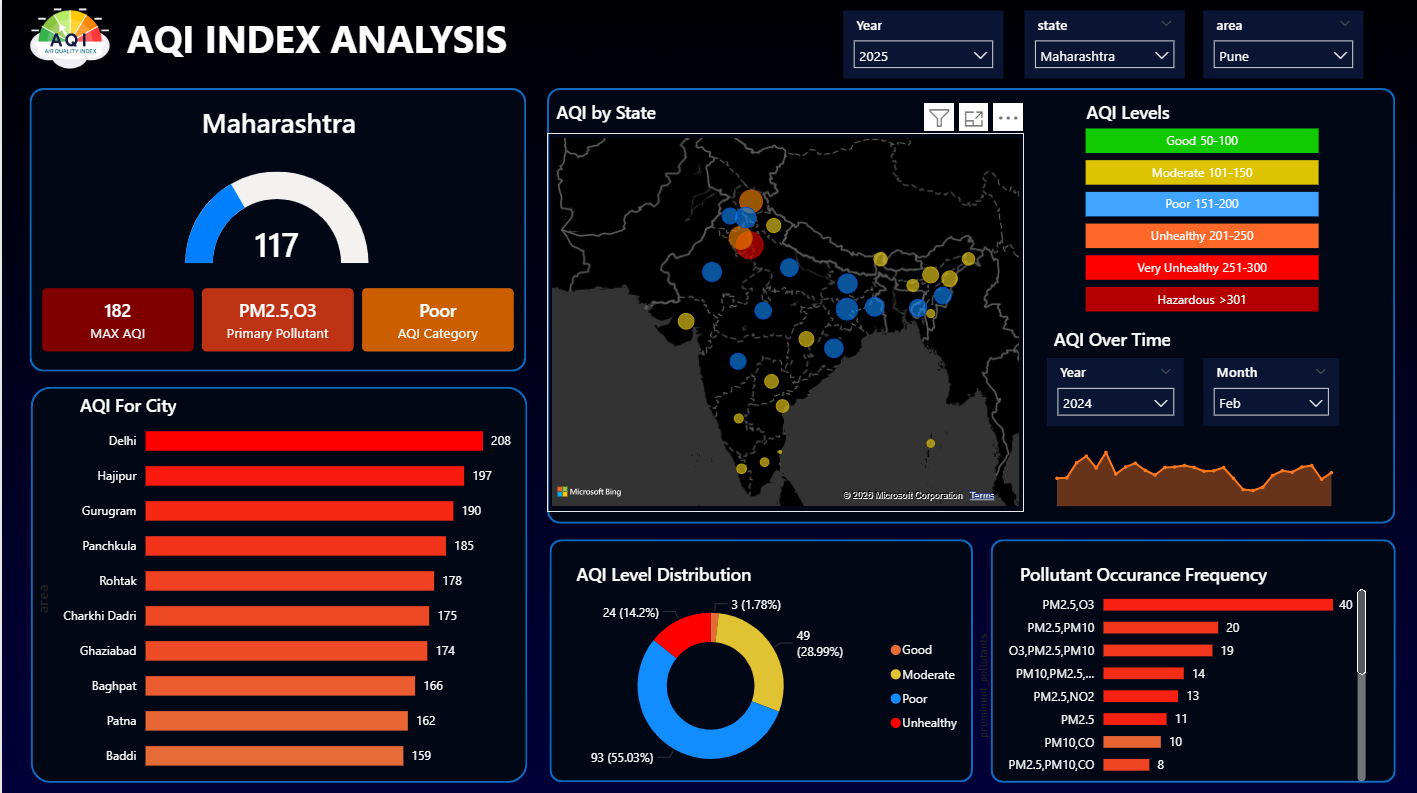

The page's visual inventory and layout, read from the dashboard file:
{"tool":"powerbi","page":{"name":"AQI INDEX ANALYSIS","canvas":[1400,800],"ordinal":0},"visuals":[{"type":"shape","box":[26.8,88.5,490.6,280.2],"z":0},{"type":"textbox","box":[118.8,10.1,391.3,62.3],"z":1000},{"type":"gauge","fields":{"Y":["day_wise_aqi_data.AVG Aqi"]},"box":[122,166.2,298.9,100.5],"z":2000},{"type":"slicer","fields":{"Values":["Calender Table.Year"]},"box":[831.1,12.1,158.2,67],"z":3000},{"type":"slicer","fields":{"Values":["day_wise_aqi_data.state"]},"box":[1009.4,12.1,158.2,67],"z":4000},{"type":"slicer","fields":{"Values":["day_wise_aqi_data.area"]},"box":[1186.3,12.1,158.2,67],"z":5000},{"type":"cardVisual","fields":{"Data":["Max(day_wise_aqi_data.aqi_value)","day_wise_aqi_data.Primary Pollutant","day_wise_aqi_data.AQI Category KPI"]},"box":[33.5,280.2,478.6,75.1],"z":6000},{"type":"cardVisual","fields":{"Data":["day_wise_aqi_data.KPI Title"]},"box":[28.2,88.5,490.6,64.3],"z":7000},{"type":"shape","box":[538.9,88.5,837.8,430.3],"z":8000},{"type":"map","fields":{"Category":["day_wise_aqi_data.state"],"Size":["day_wise_aqi_data.AVERAGE AQI"]},"box":[538.8,133.6,471.3,373.7],"z":9000},{"type":"cardVisual","fields":{"Data":["day_wise_aqi_data.State Map Title"]},"box":[518.8,79.1,490.6,64.3],"z":10000},{"type":"barChart","fields":{"Category":["day_wise_aqi_data.AQI Category"],"Y":["day_wise_aqi_data.Label"]},"box":[1065.6,115.6,240.1,199.6],"z":11000},{"type":"cardVisual","fields":{"Data":["day_wise_aqi_data.AQI Level Title"]},"box":[958.5,366,277.5,33.5],"z":12000},{"type":"areaChart","fields":{"Category":["Calender Table.Date.Variation.Date Hierarchy.Day"],"Y":["day_wise_aqi_data.AVERAGE AQI"]},"box":[1026.8,416.9,320.4,89.8],"z":13000},{"type":"slicer","fields":{"Values":["Calender Table.Date.Variation.Date Hierarchy.Year"]},"box":[1032.2,355.2,135.4,67],"z":14000},{"type":"slicer","fields":{"Values":["Calender Table.Month"]},"box":[1186.3,355.2,134,67],"z":15000},{"type":"cardVisual","fields":{"Data":["day_wise_aqi_data.AQI Level Title"]},"box":[1041.6,79.1,357.9,64.3],"z":16000},{"type":"cardVisual","fields":{"Data":["day_wise_aqi_data.TiTle For Monthly Chart"]},"box":[1009.4,304.3,390.1,64.3],"z":17000},{"type":"shape","box":[28.2,383.4,490.6,391.4],"z":18000},{"type":"barChart","fields":{"Category":["day_wise_aqi_data.area"],"Y":["day_wise_aqi_data.AVERAGE AQI"]},"box":[27,400.7,483.3,376.7],"z":19000},{"type":"cardVisual","fields":{"Data":["day_wise_aqi_data.Title for city"]},"box":[48,369.2,490.8,64.5],"z":20000},{"type":"shape","box":[540.2,534.9,418.2,239.9],"z":21000},{"type":"donutChart","fields":{"Category":["day_wise_aqi_data.AQI Category"],"Y":["day_wise_aqi_data.Count of Rows"]},"box":[518.8,579.7,439.1,198.6],"z":22000},{"type":"cardVisual","fields":{"Data":["day_wise_aqi_data.Donut Title"]},"box":[537.7,534.8,313,65.2],"z":23000},{"type":"shape","box":[976.8,534.8,400,240.6],"z":24000},{"type":"barChart","fields":{"Y":["day_wise_aqi_data.Count of Rows"],"Category":["day_wise_aqi_data.prominent_pollutants"]},"box":[959.4,571,392.8,207.2],"z":25000},{"type":"cardVisual","fields":{"Data":["day_wise_aqi_data.Pollutant title"]},"box":[976.8,534.8,313,65.2],"z":25001},{"type":"image","box":[26.1,0,82.6,79.7],"z":25002}]}

Visuals, with their boxes in screenshot pixels (x1, y1, x2, y2), scaled from the page's 1400x800 canvas onto the 1417x793 screenshot:
shape: region(27, 88, 524, 365)
textbox: region(120, 10, 516, 72)
gauge - day_wise_aqi_data.AVG Aqi: region(123, 165, 426, 264)
slicer - Calender Table.Year: region(841, 12, 1001, 78)
slicer - day_wise_aqi_data.state: region(1022, 12, 1182, 78)
slicer - day_wise_aqi_data.area: region(1201, 12, 1361, 78)
cardVisual - Max(day_wise_aqi_data.aqi_value) x day_wise_aqi_data.Primary Pollutant: region(34, 278, 518, 352)
cardVisual - day_wise_aqi_data.KPI Title: region(29, 88, 525, 151)
shape: region(545, 88, 1393, 514)
map - day_wise_aqi_data.state x day_wise_aqi_data.AVERAGE AQI: region(545, 132, 1022, 503)
cardVisual - day_wise_aqi_data.State Map Title: region(525, 78, 1022, 142)
barChart - day_wise_aqi_data.AQI Category x day_wise_aqi_data.Label: region(1079, 115, 1322, 312)
cardVisual - day_wise_aqi_data.AQI Level Title: region(970, 363, 1251, 396)
areaChart - Calender Table.Date.Variation.Date Hierarchy.Day x day_wise_aqi_data.AVERAGE AQI: region(1039, 413, 1364, 502)
slicer - Calender Table.Date.Variation.Date Hierarchy.Year: region(1045, 352, 1182, 419)
slicer - Calender Table.Month: region(1201, 352, 1336, 419)
cardVisual - day_wise_aqi_data.AQI Level Title: region(1054, 78, 1416, 142)
cardVisual - day_wise_aqi_data.TiTle For Monthly Chart: region(1022, 302, 1416, 365)
shape: region(29, 380, 525, 768)
barChart - day_wise_aqi_data.area x day_wise_aqi_data.AVERAGE AQI: region(27, 397, 516, 771)
cardVisual - day_wise_aqi_data.Title for city: region(49, 366, 545, 430)
shape: region(547, 530, 970, 768)
donutChart - day_wise_aqi_data.AQI Category x day_wise_aqi_data.Count of Rows: region(525, 575, 970, 771)
cardVisual - day_wise_aqi_data.Donut Title: region(544, 530, 861, 595)
shape: region(989, 530, 1394, 769)
barChart - day_wise_aqi_data.Count of Rows x day_wise_aqi_data.prominent_pollutants: region(971, 566, 1369, 771)
cardVisual - day_wise_aqi_data.Pollutant title: region(989, 530, 1305, 595)
image: region(26, 0, 110, 79)
